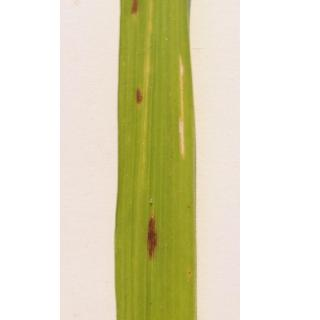bercak-Cokelat: (142, 194, 162, 265), (132, 85, 146, 110), (129, 0, 144, 14)
